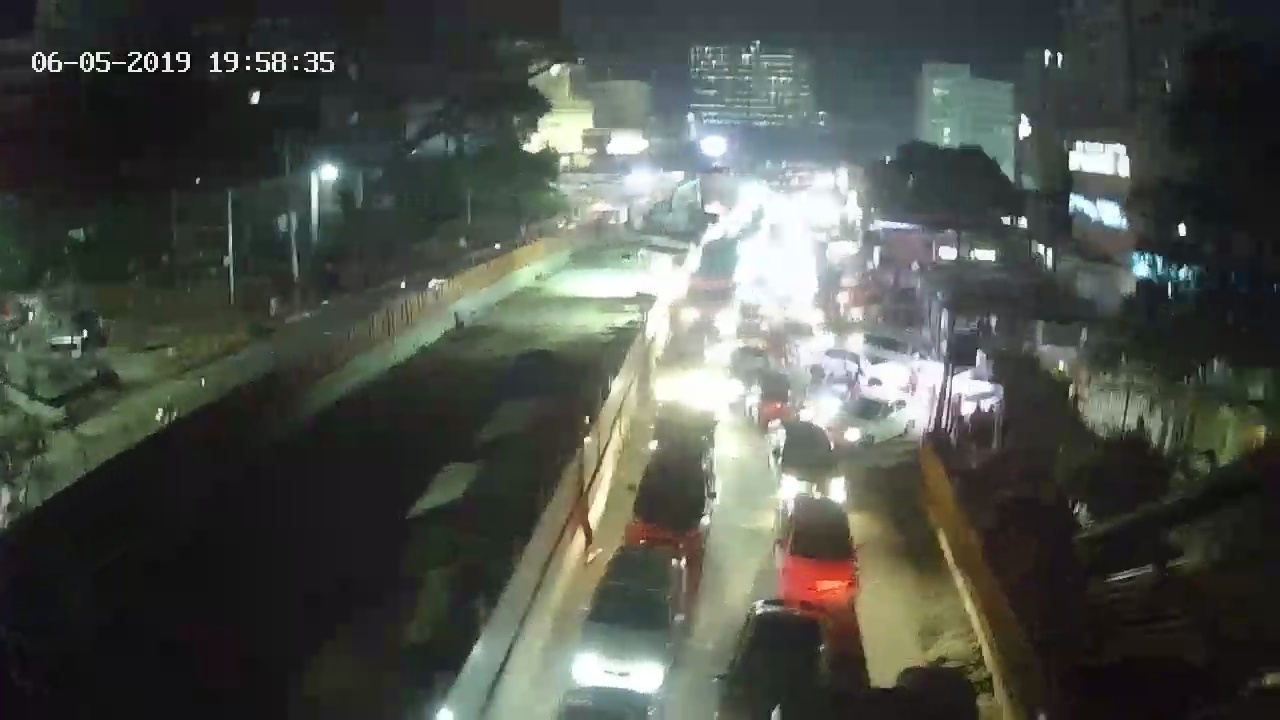fast: (558, 543, 704, 696), (762, 489, 873, 605), (760, 414, 858, 503), (824, 390, 926, 446)
